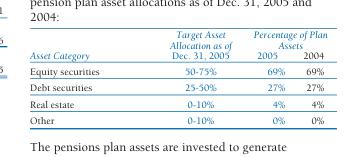table: (29, 28, 326, 125)
table column: (133, 28, 241, 125), (29, 28, 133, 125), (241, 28, 293, 125), (293, 28, 326, 125)
table column header: (29, 28, 326, 62)
table row: (29, 28, 326, 49), (29, 62, 326, 79), (29, 95, 326, 112), (29, 79, 326, 95), (29, 49, 326, 62), (29, 112, 326, 125)
table spanning cell: (133, 28, 241, 62), (29, 28, 133, 62), (241, 28, 326, 49)
